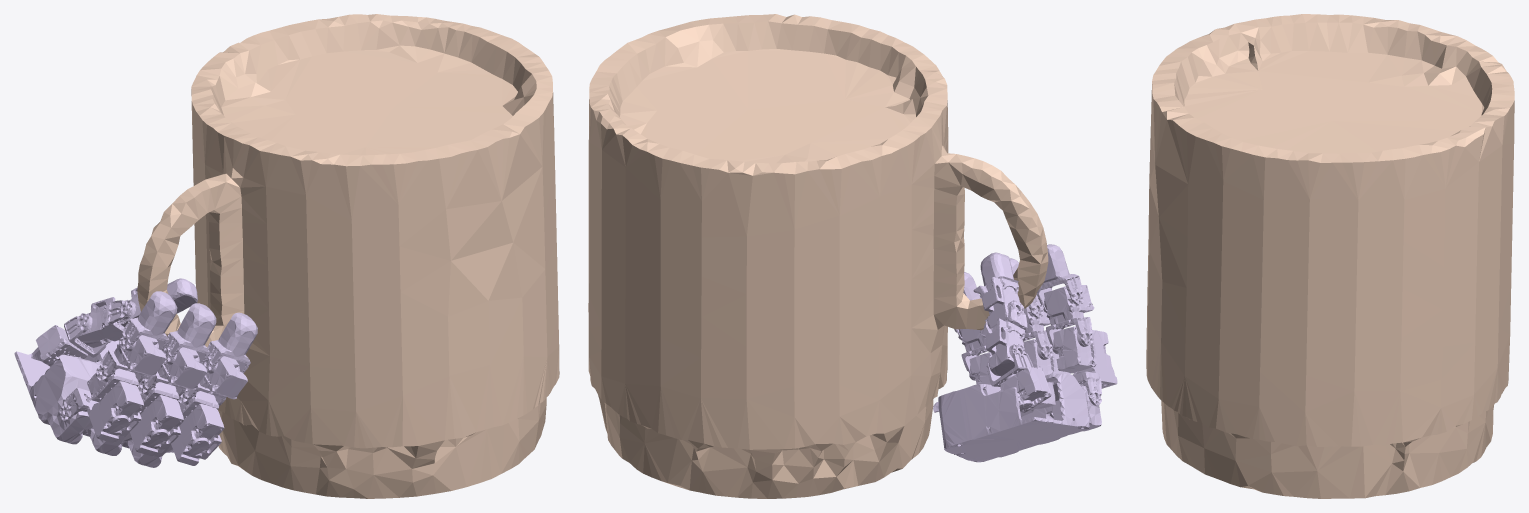
The picture shows the model from 3 angles, left to right: view 1: azimuth 30°, elevation 25°; view 2: azimuth 150°, elevation 25°; view 3: azimuth 270°, elevation 25°; orthographic projection.
Visible parts, largest first — view 1: world, LEAP_hand; view 2: world, LEAP_hand; view 3: world.
Part boxes in pixels (x1,y1,x2,y2): world: (137, 14, 559, 498); LEAP_hand: (14, 278, 257, 467); world: (588, 14, 1048, 498); LEAP_hand: (933, 244, 1117, 462); world: (1146, 14, 1514, 498).
Size of the model in its own units: 0.481 by 0.3286 by 0.3137.
